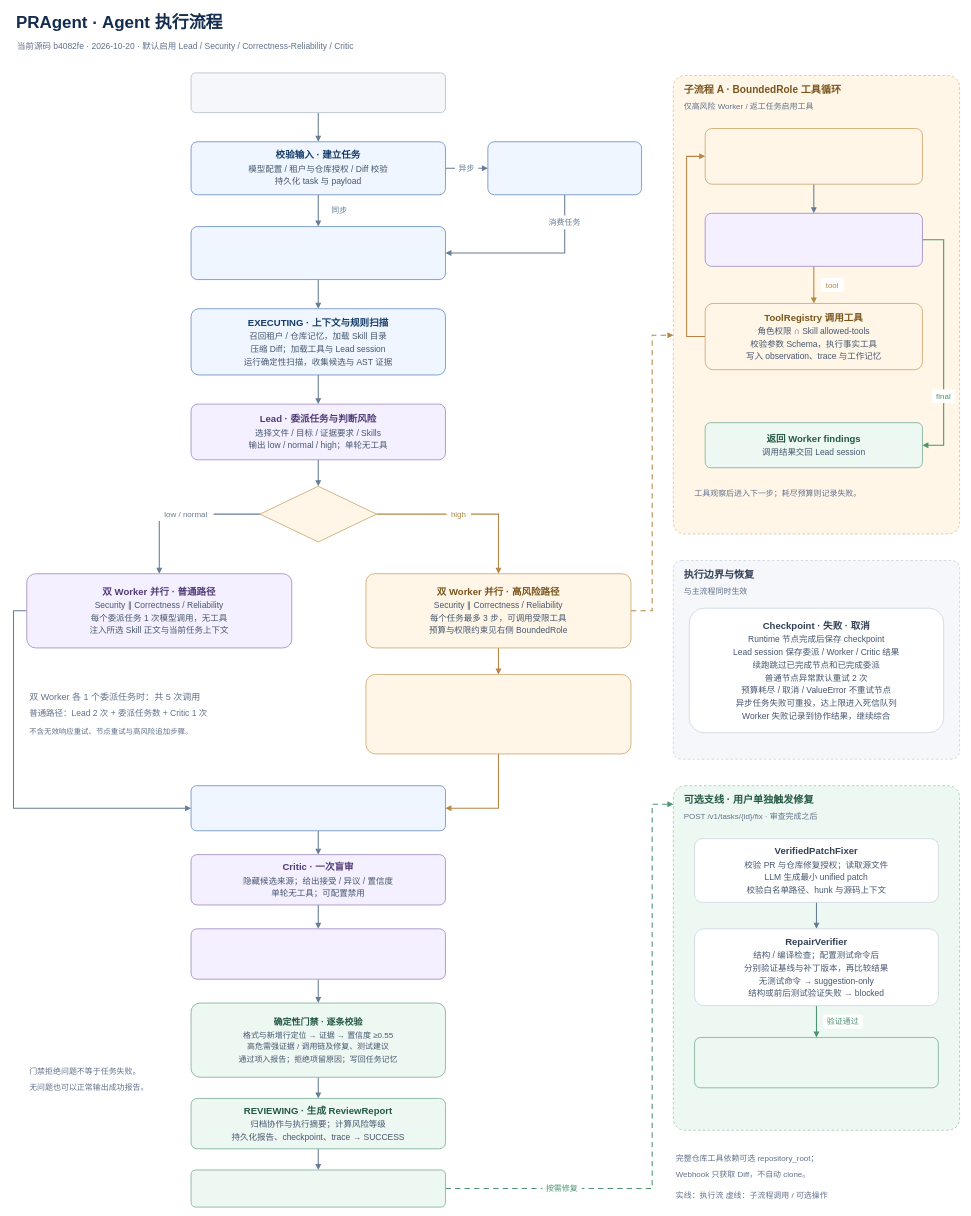
Some shapes in this 971 by 1216 pixel diagram are drawn without their labels. The centre of each missing label's shape, as x and y in pixels:
"Lead · 最终综合 处理 Critic 异议，选择发布的问题索引 单轮无工具；持久化协作会话" goes at (x=318, y=953).
"Lead 评估 → 按需返工 仅高风险进入评估；没有返工要求则跳过 最多 1 轮返工：指定 Worker 每任务 ≤2 步 返工允许工具；最新结果替换原任务结果" goes at (x=498, y=714).
"LLM 返回 JSON 决策 action = tool 或 final 无效 action 在同一步内最多重试 2 次" goes at (x=814, y=239).
"PLANNING · 恢复与解析 恢复已完成 checkpoint；解析 unified diff 提取变更文件和新增行" goes at (x=318, y=253).
"合并候选问题 规则扫描 + Worker 最新结果；按问题身份去重" goes at (x=318, y=808).
"异步任务队列 内存线程池 / Redis Streams Webhook 在消费时获取 Diff" goes at (x=564, y=168).
"接收审查请求 Web / JSON API / GitHub PR Webhook" goes at (x=318, y=92).
"是否 high？" goes at (x=318, y=514).
"检查执行预算 Token / 时间 / 最大步骤数 构建压缩上下文 + Working Memory" goes at (x=814, y=156).
"输出 JSON / Markdown 报告 配置启用时，更新 GitHub PR 审查评论" goes at (x=318, y=1188).
"验证通过 → verified-draft 新分支 + 原子提交 + Draft PR 验证在临时目录与子进程中执行" goes at (x=816, y=1062).
